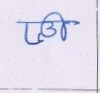i_matra: (52, 11, 68, 40)
